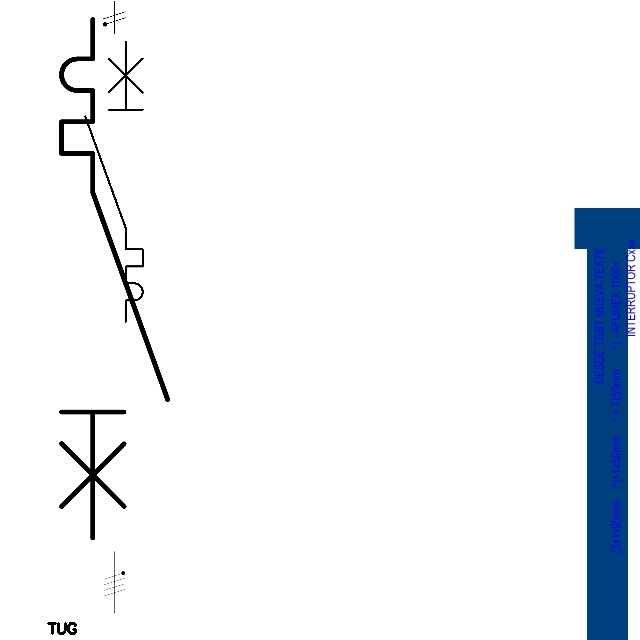interruptor_termomagnetico: (48, 6, 181, 551), (78, 34, 150, 328)
